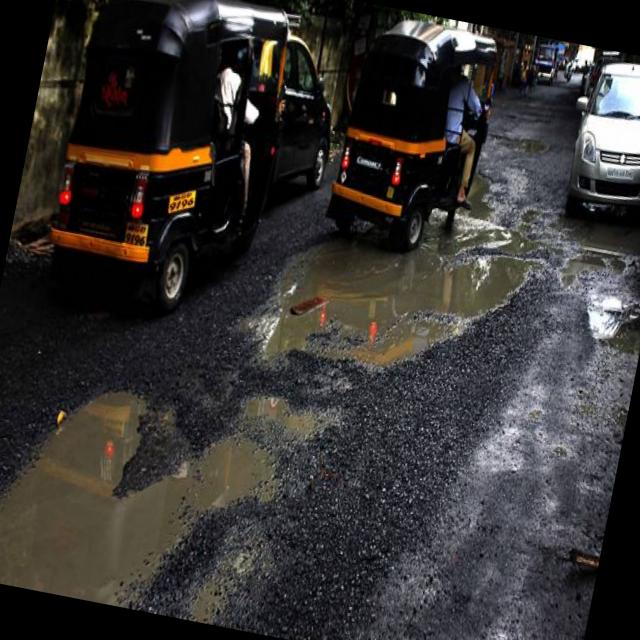Potholes: (0, 367, 280, 624), (262, 168, 534, 402), (538, 235, 640, 369), (496, 121, 565, 169)
